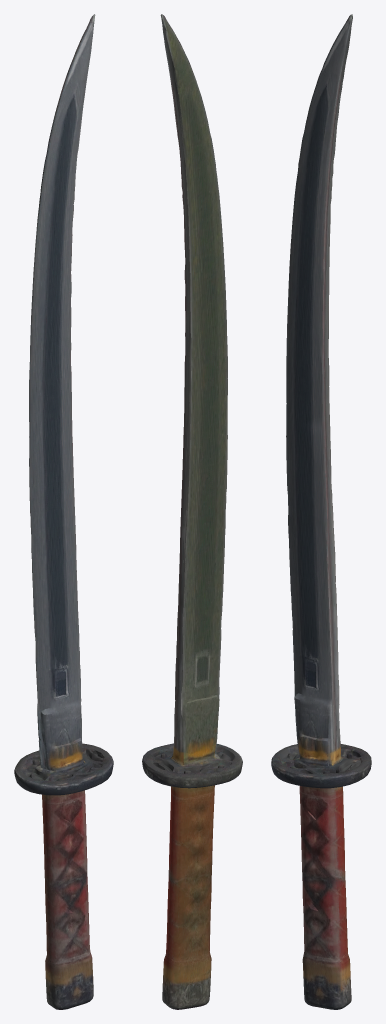
File: red_reed_katana.glb
3 views of the same model, side by side, from view 1: azimuth 30°, elevation 25°; view 2: azimuth 210°, elevation 25°; view 3: azimuth 330°, elevation 25° (orthographic).
Bounding box in the file's own units: 0.1757 × 1.9 × 0.1482.
Materials: 1 (1 with a texture image).
